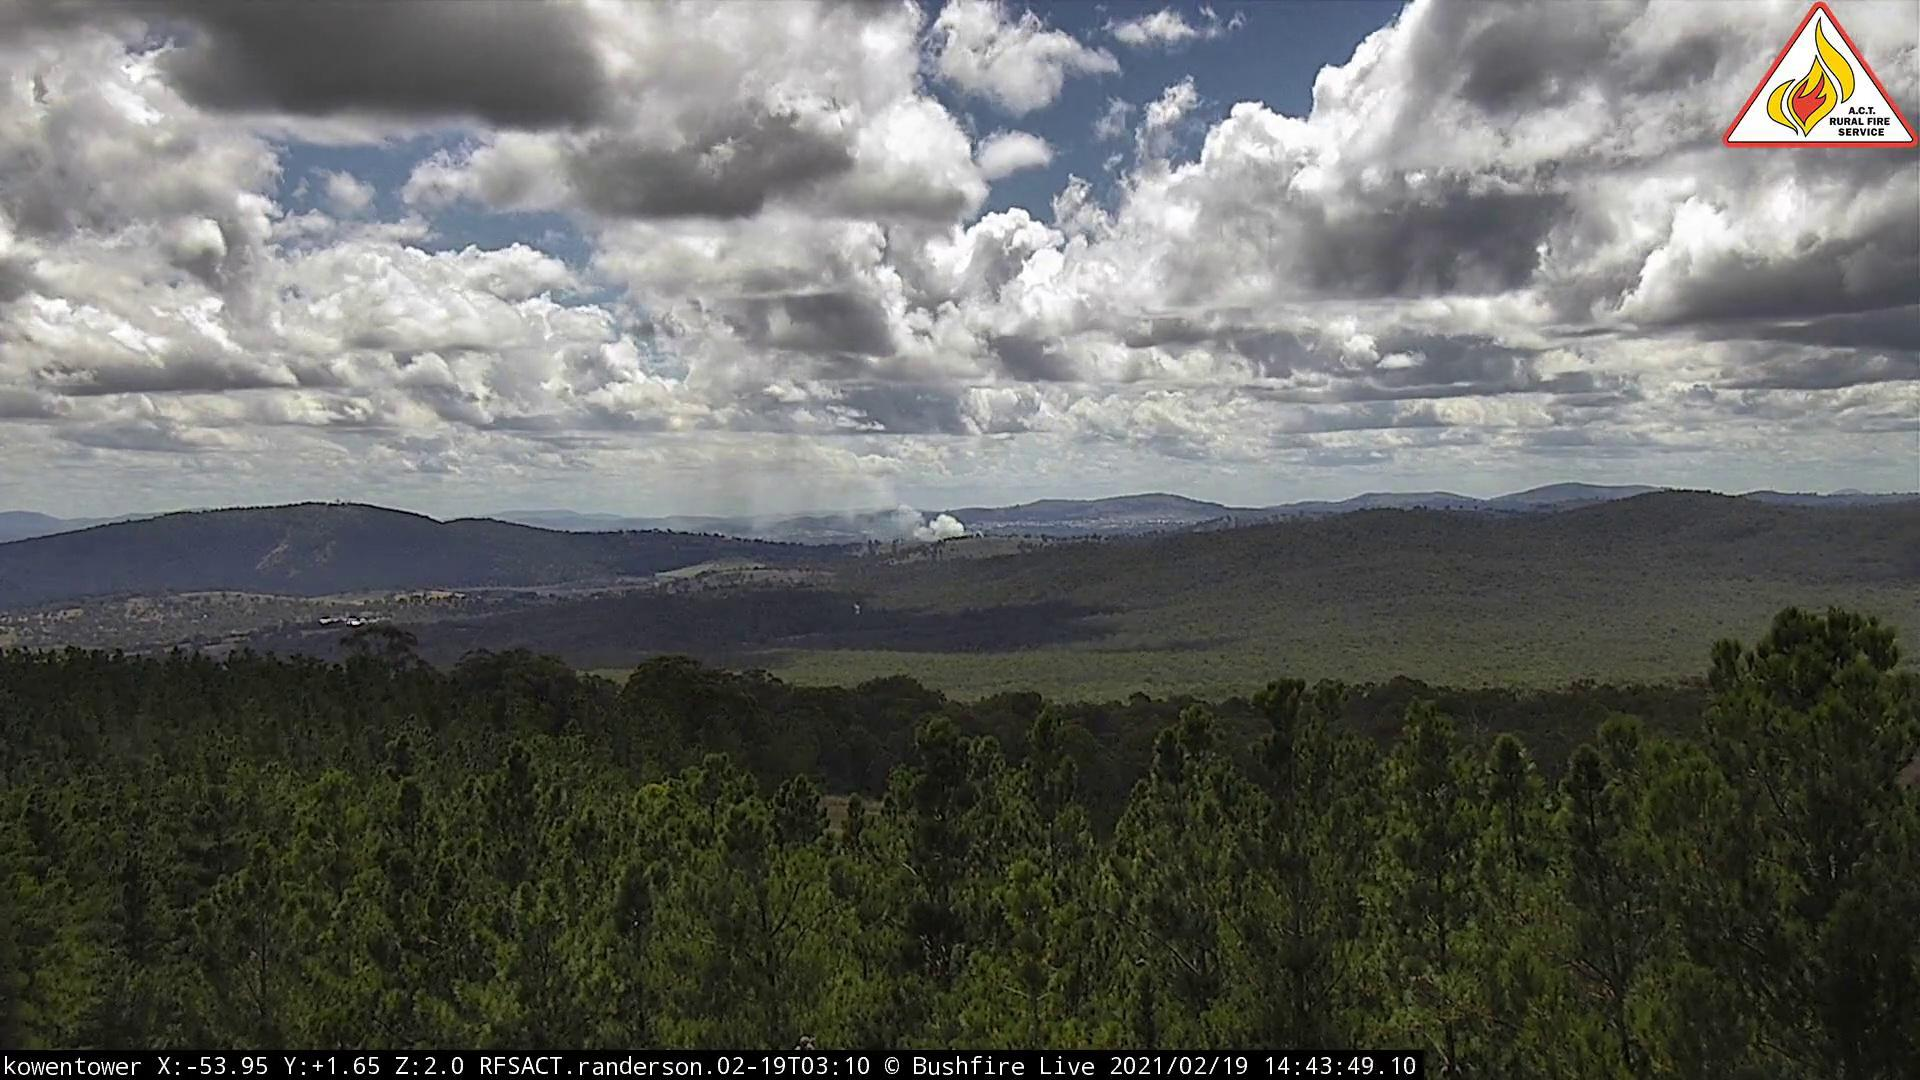Smoke: (662, 425, 977, 553)
